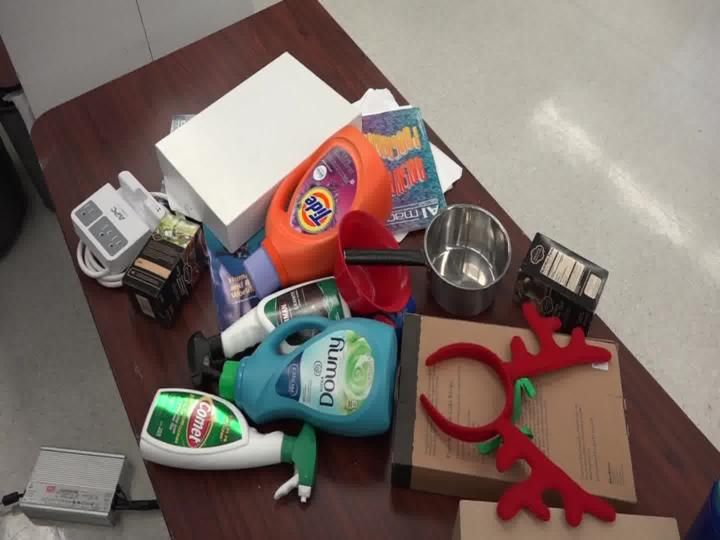downy: (197, 301, 412, 448)
